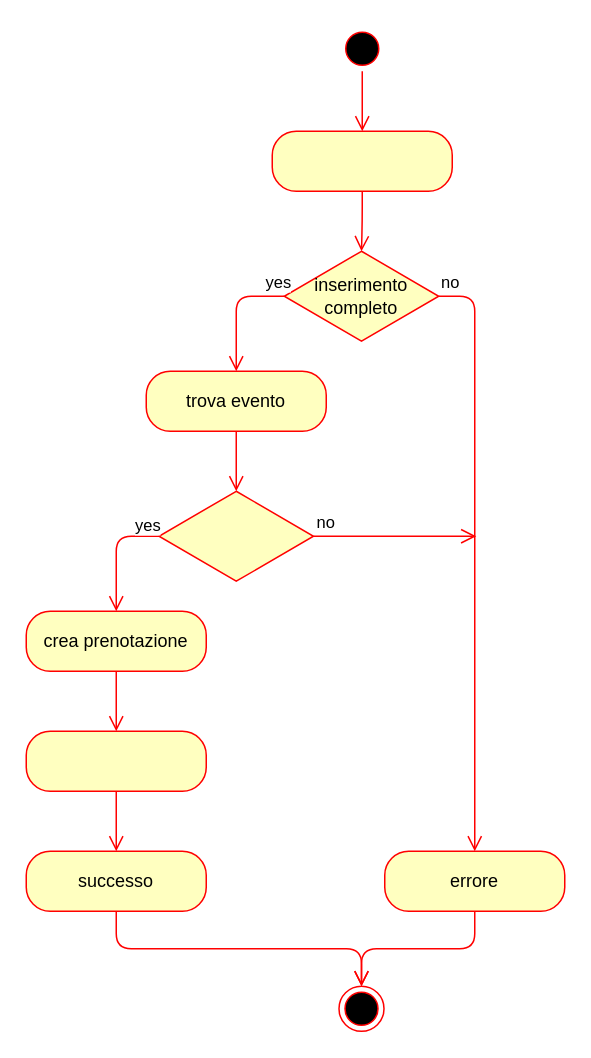
Some shapes in this 591 by 1058 pixel diagram are drawn without their labels. The centre of each missing label's shape, as x and y in pixels:
aggiungi prenotazione in lista di attesa: [115,760]
codice_evento trovato: [236,535]
inserimento codice_evento: [361,160]
